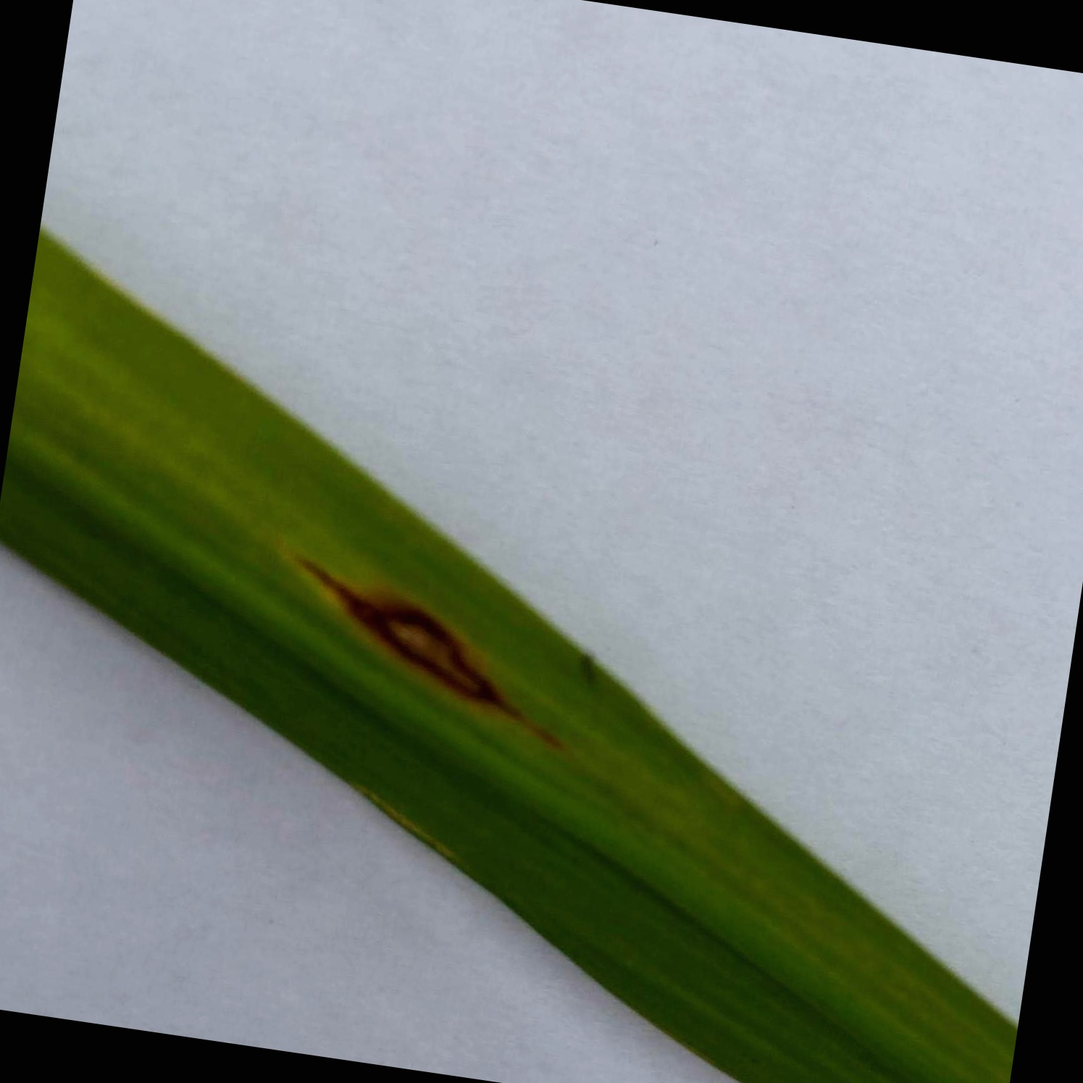Brown_Spot: (267, 471, 604, 766)
